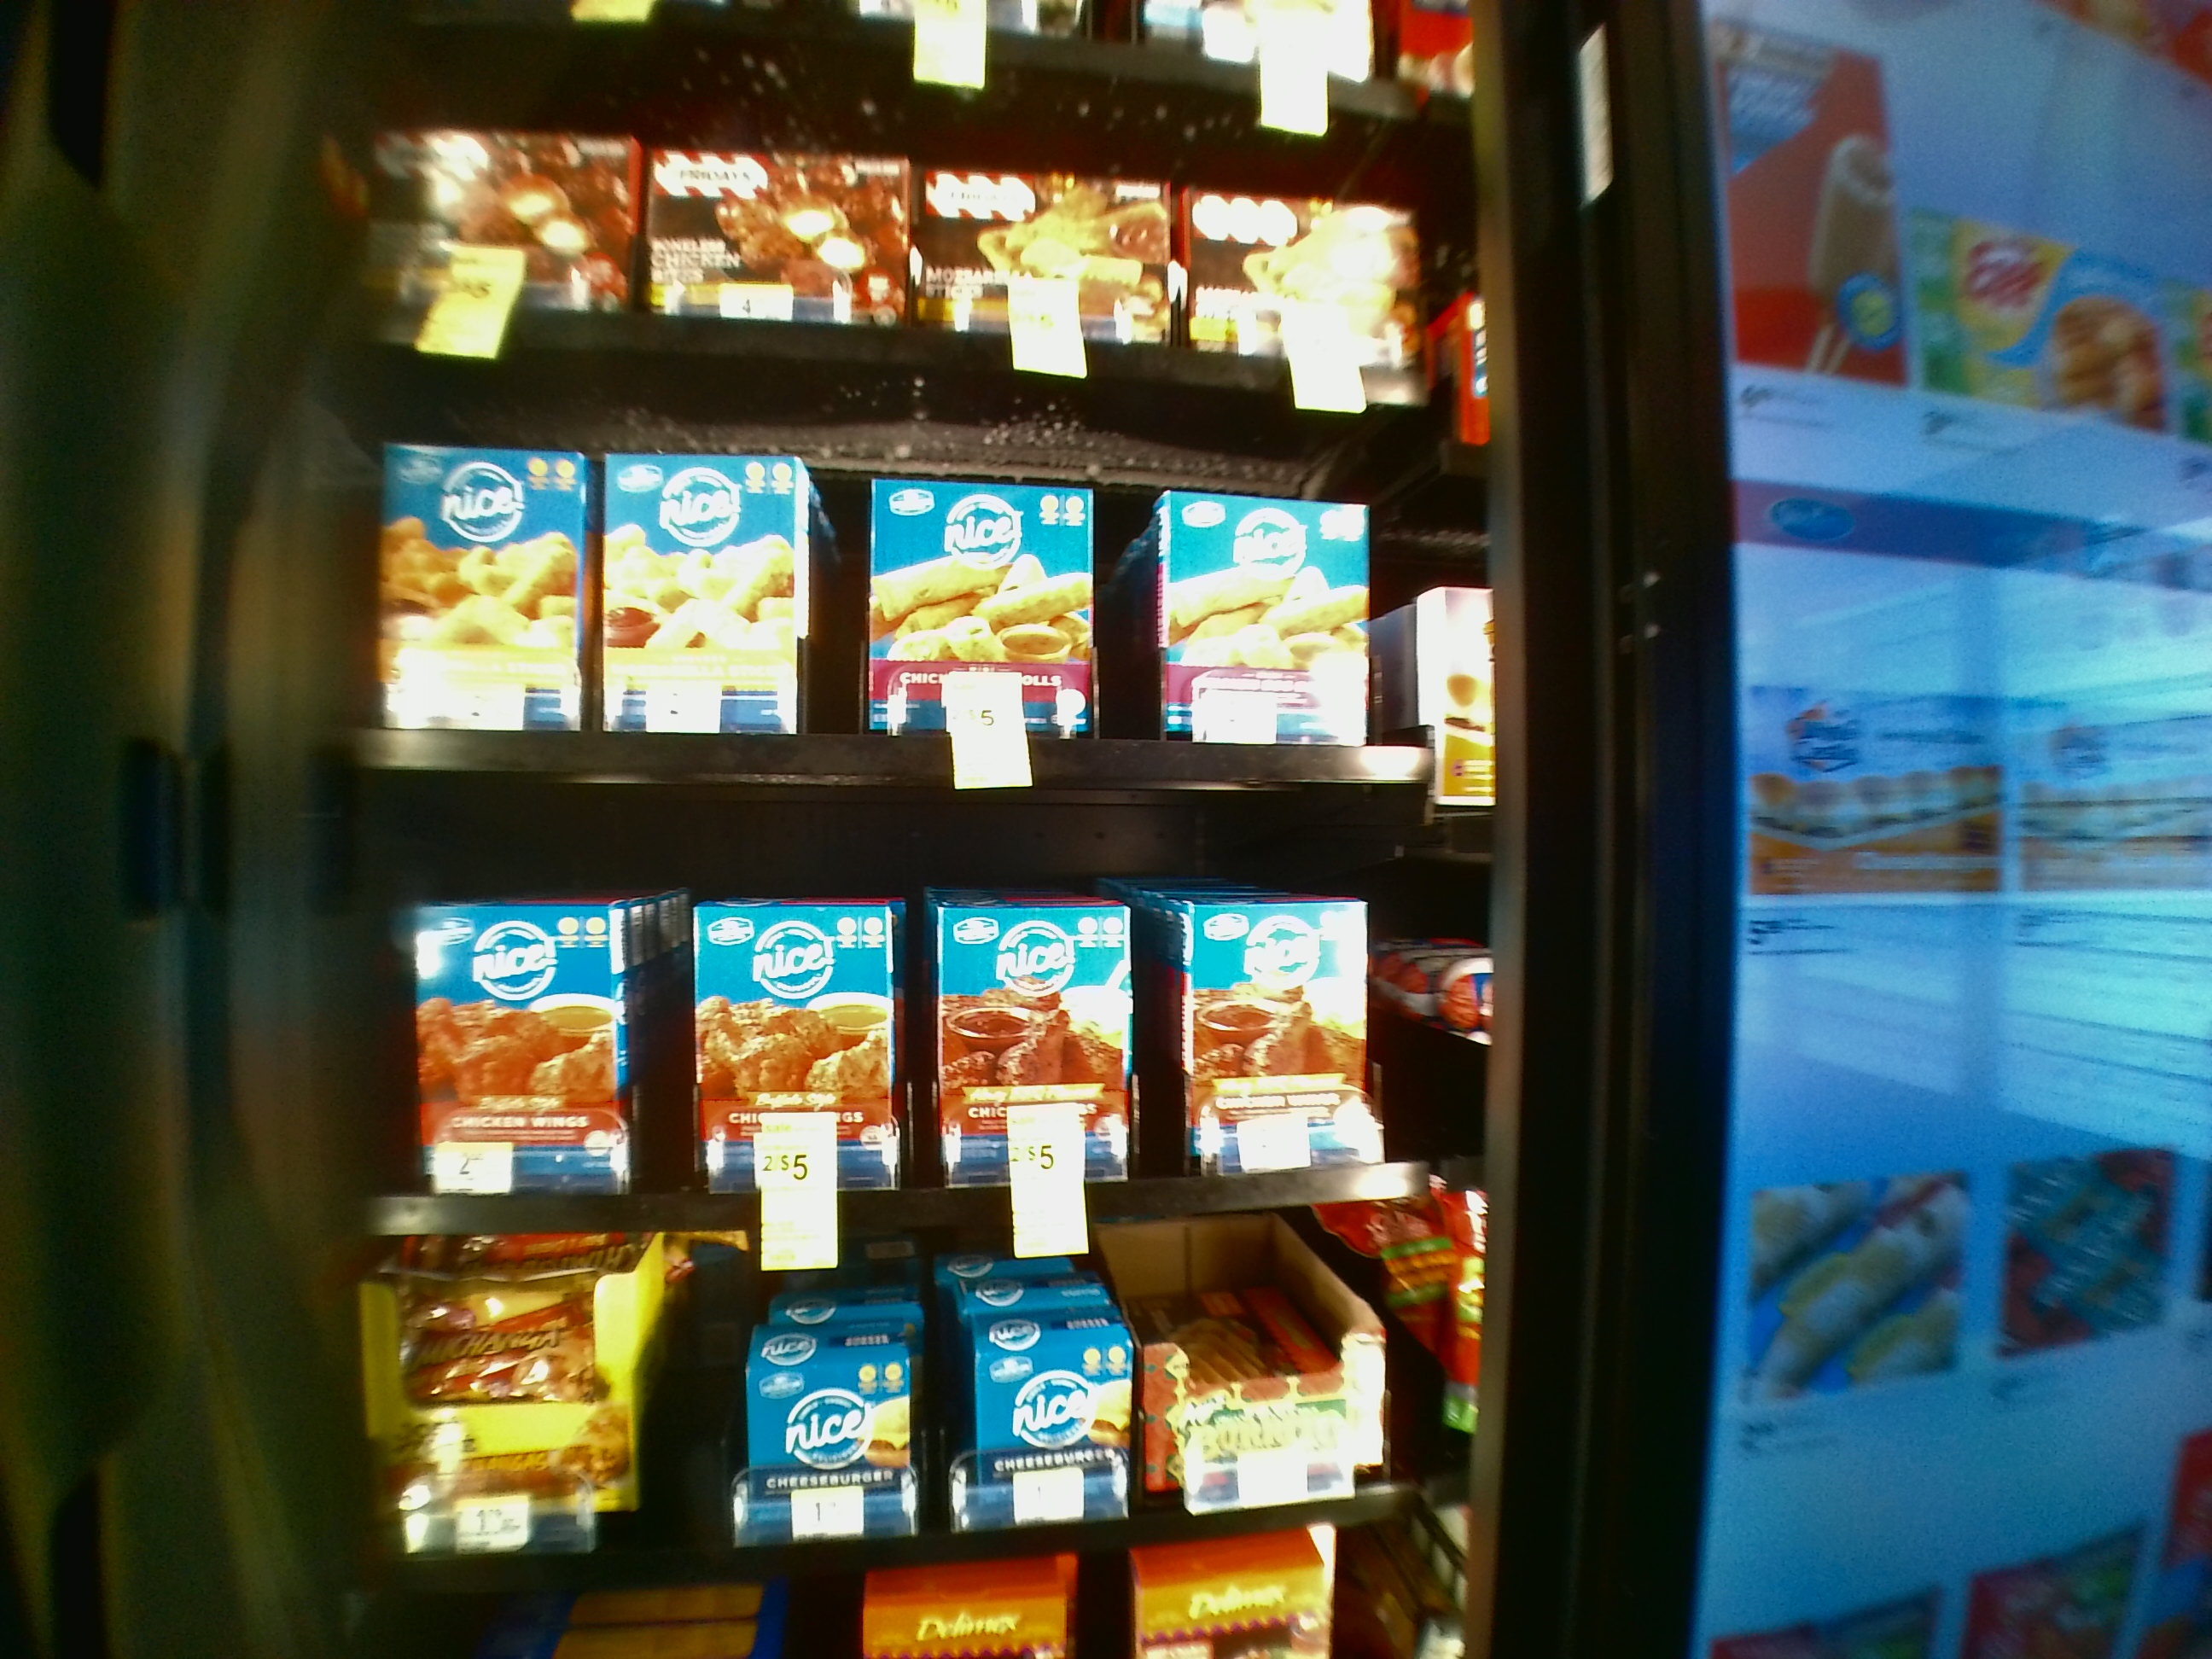shelf: (348, 350, 1486, 793), (350, 809, 1486, 1241)
